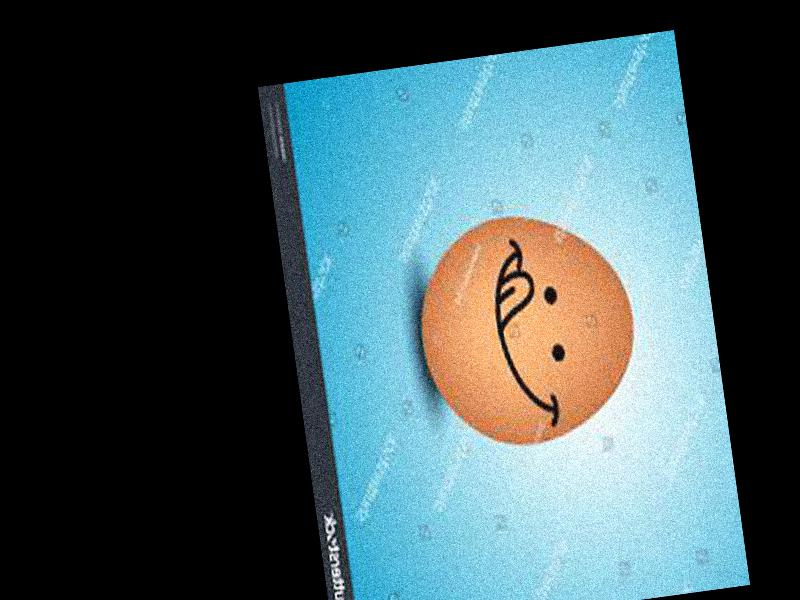Eggs: (406, 201, 648, 457)
